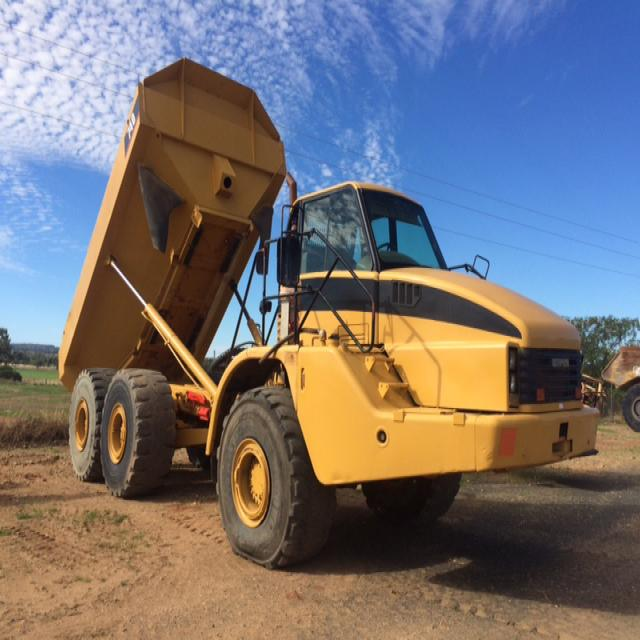dump_truck: (57, 51, 601, 568)
